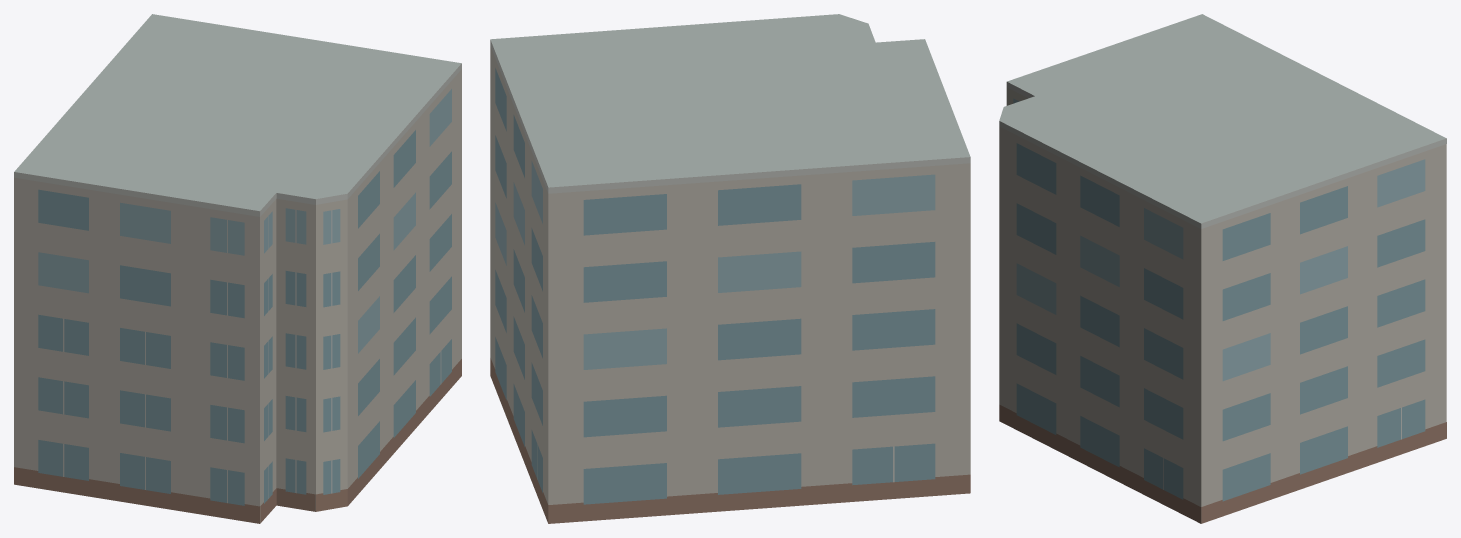
Rendered from survey-upis-32841652.glb.
The picture shows the model from 3 angles, left to right: view 1: azimuth 30°, elevation 25°; view 2: azimuth 150°, elevation 25°; view 3: azimuth 270°, elevation 25°; orthographic projection. The views are drawn at different scales.
Visible parts, largest first — view 1: survey-upis-32841652.tmp; view 2: survey-upis-32841652.tmp; view 3: survey-upis-32841652.tmp.
Boxes of the visible parts, x1,y1,x2,y2 form: survey-upis-32841652.tmp: (14,14,461,523); survey-upis-32841652.tmp: (490,14,970,523); survey-upis-32841652.tmp: (999,14,1446,523).
Size of the model in its own units: 19.76 by 13.2 by 17.83.
